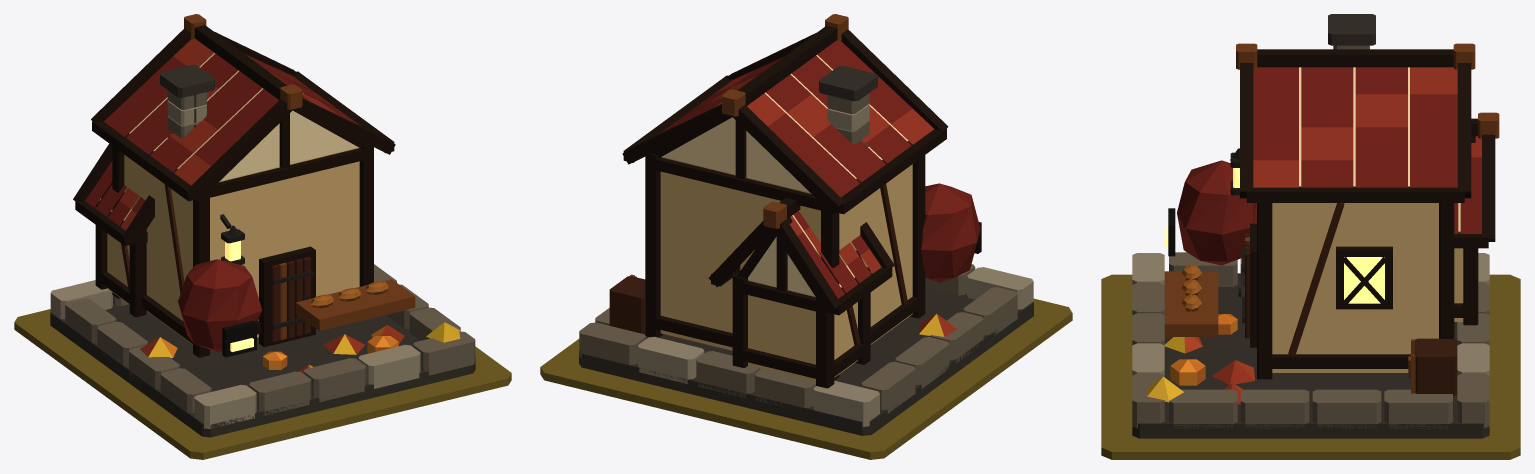
File: bakery_t5.glb
The picture shows the model from 3 angles, left to right: view 1: azimuth 30°, elevation 25°; view 2: azimuth 150°, elevation 25°; view 3: azimuth 270°, elevation 25°; orthographic projection. The views are drawn at different scales.
Visible parts, largest first — view 1: MMR | bakery | T05 Architecture.001, MMR | bakery | Tier 05 Ground.001, MMR | bakery | T05 Autumn Dressing.001; view 2: MMR | bakery | T05 Architecture.001, MMR | bakery | Tier 05 Ground.001, MMR | bakery | T05 Autumn Dressing.001; view 3: MMR | bakery | T05 Architecture.001, MMR | bakery | Tier 05 Ground.001, MMR | bakery | T05 Autumn Dressing.001.
Part boxes in pixels (x1,y1,x2,y2): MMR | bakery | T05 Architecture.001: [50, 14, 475, 437]; MMR | bakery | Tier 05 Ground.001: [14, 309, 511, 459]; MMR | bakery | T05 Autumn Dressing.001: [140, 322, 460, 373]; MMR | bakery | T05 Architecture.001: [579, 14, 1033, 435]; MMR | bakery | Tier 05 Ground.001: [540, 298, 1072, 459]; MMR | bakery | T05 Autumn Dressing.001: [919, 313, 957, 336]; MMR | bakery | T05 Architecture.001: [1132, 14, 1499, 438]; MMR | bakery | Tier 05 Ground.001: [1101, 274, 1520, 459]; MMR | bakery | T05 Autumn Dressing.001: [1147, 314, 1254, 404].
Size of the model in its own units: 2.35 by 2 by 2.35.
Materials: 2 (1 with a texture image).
